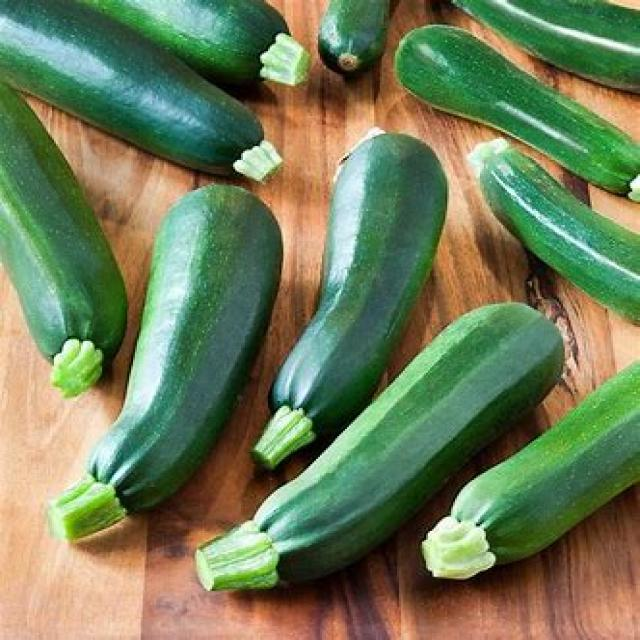Zucchini: (85, 168, 260, 574)
